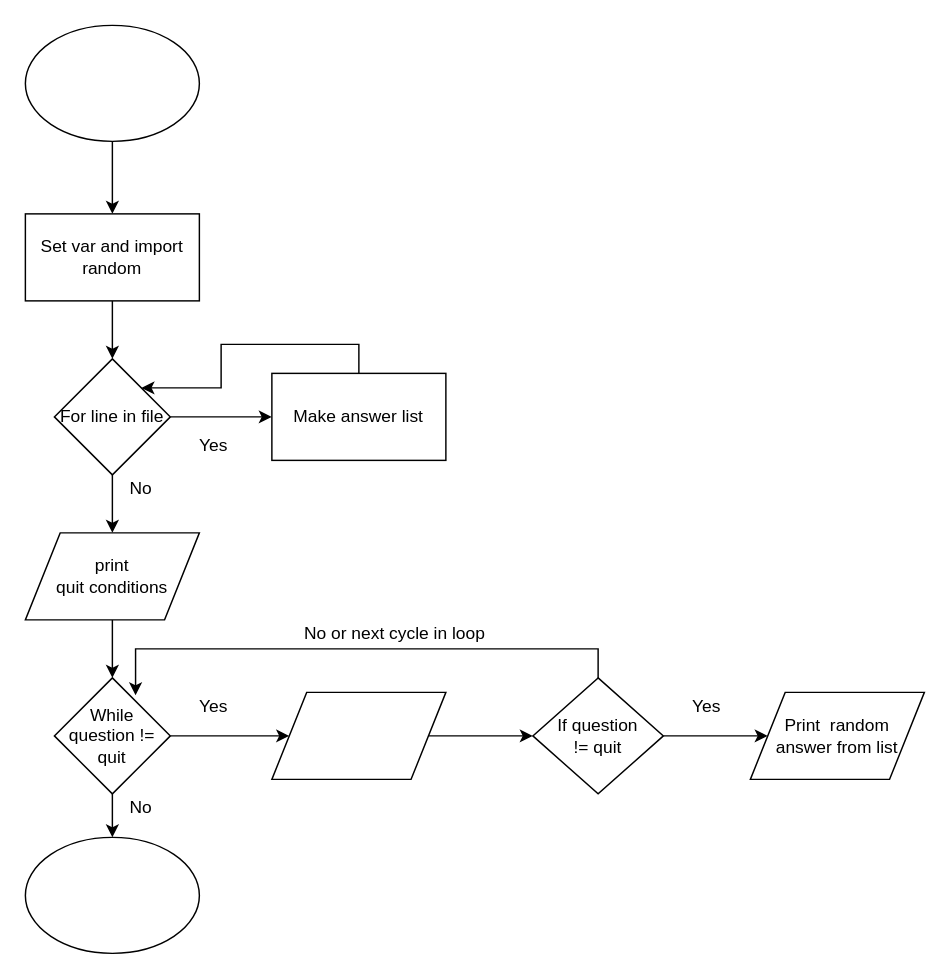
Some shapes in this 950 by 979 pixel diagram are drawn without their labels. Here are the shapes that lost their labels. From the top down, the box of each, then its label:
(24, 24, 199, 141): Start
(270, 691, 446, 779): Get question from user input
(24, 836, 199, 953): end
